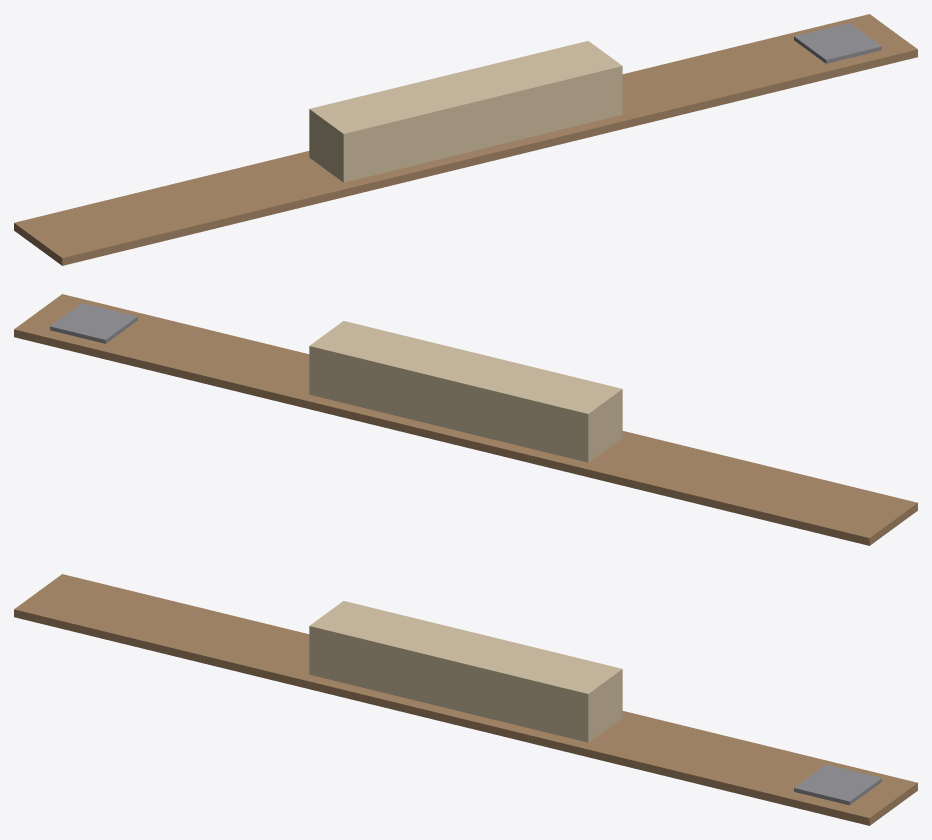
Rendered from prop-grip-strap-blank.fbx.
3 renders of one model, top to bottom at view 1: azimuth 30°, elevation 25°; view 2: azimuth 150°, elevation 25°; view 3: azimuth 330°, elevation 25°, orthographic.
Parts seen in each view (by area): view 1: prop-grip-strap-blank; view 2: prop-grip-strap-blank; view 3: prop-grip-strap-blank.
Part boxes in pixels (<box>): prop-grip-strap-blank: <box>14,14,917,265</box>; prop-grip-strap-blank: <box>14,294,917,545</box>; prop-grip-strap-blank: <box>14,574,917,825</box>.
Size of the model in its own units: 46 by 2.9 by 4.5.
